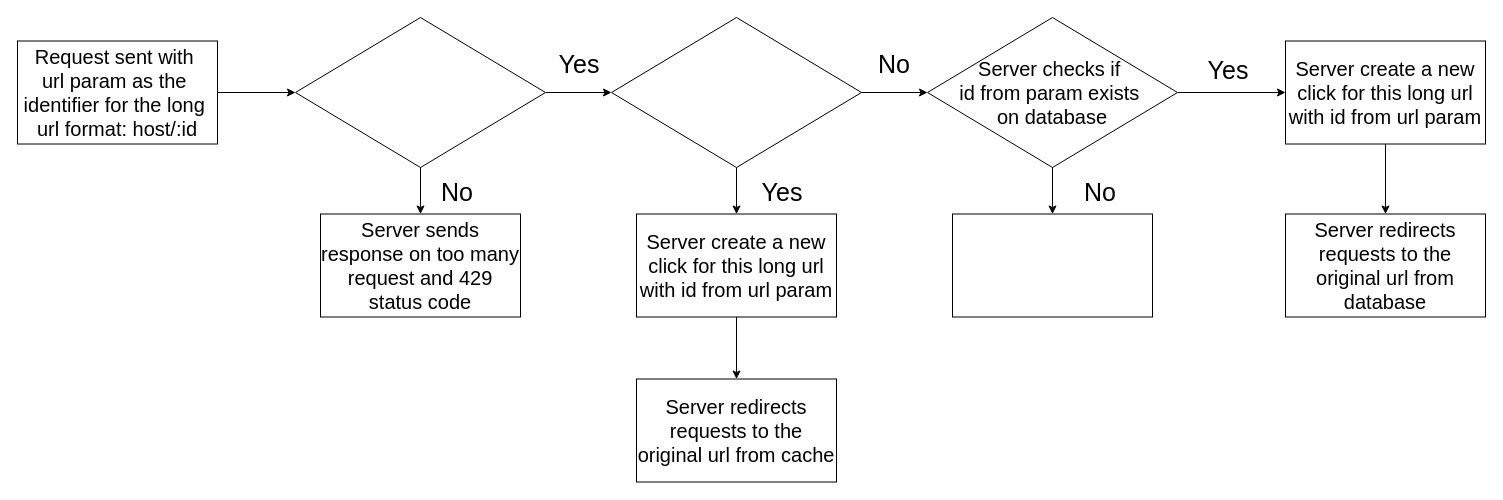
Image size: 1503x500. Some labels were removed from this diagram. Each missing label, with the box of its shape:
Server checks if id from param exists on cache: (610, 16, 862, 168)
Server checks if this request had not already exceeded limit: (294, 16, 546, 168)
Server sends response on id shortened url not found and 404 status code: (952, 213, 1152, 317)
